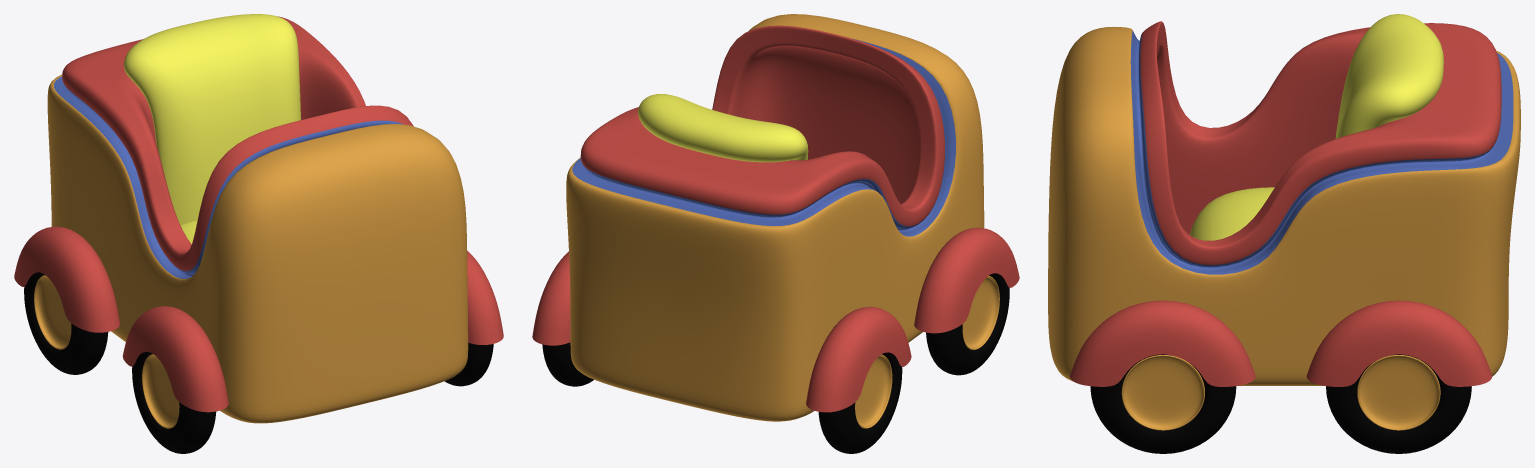
The model's file is truckYellow.fbx.
3 views of the same model, side by side, from view 1: azimuth 30°, elevation 25°; view 2: azimuth 150°, elevation 25°; view 3: azimuth 270°, elevation 25° (orthographic). The views are drawn at different scales.
Visible parts, largest first — view 1: Body, Whells, Back; view 2: Body, Whells, Back; view 3: Body, Whells, Back, Seat.
Part boxes in pixels (<box>): Body: <box>47,16,468,423</box>; Whells: <box>14,226,503,453</box>; Back: <box>124,14,300,225</box>; Body: <box>566,14,984,421</box>; Whells: <box>532,227,1019,453</box>; Back: <box>638,94,808,162</box>; Body: <box>1048,21,1520,385</box>; Whells: <box>1070,300,1492,453</box>; Back: <box>1335,14,1443,138</box>; Seat: <box>1190,187,1274,240</box>.
Size of the model in its own units: 68.52 by 62.53 by 80.8.
